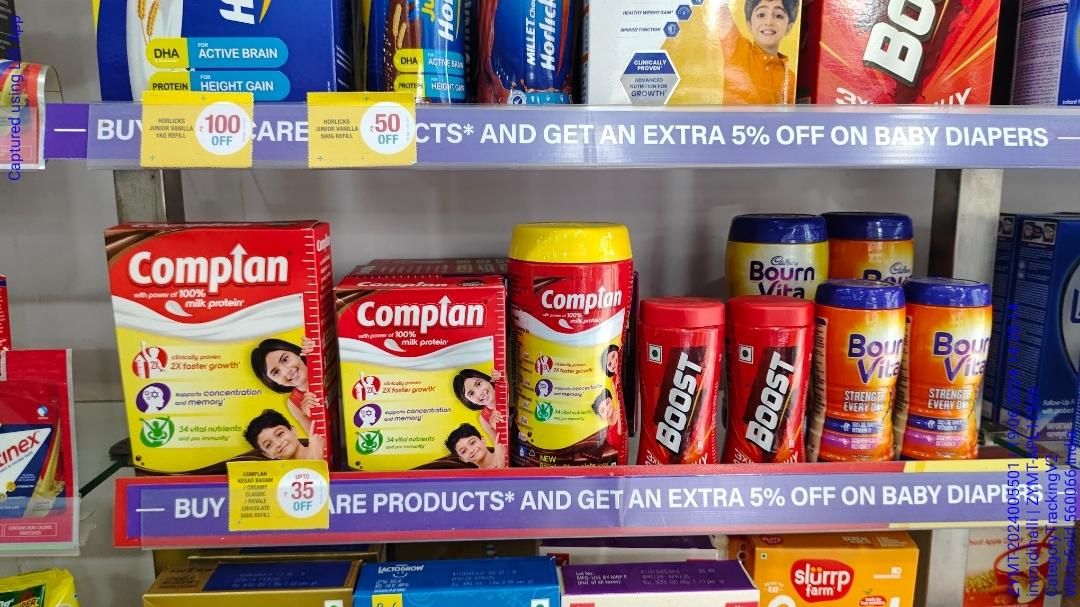BOURN_VITA_200_G_JAR: (816, 285, 899, 466), (908, 278, 985, 462)
COMPLAN_CHOCOLATE_200_GMS_PACK: (335, 290, 499, 475)
COMPLAN_CHOCOLATE_500_GMS_JAR: (514, 223, 628, 478)
